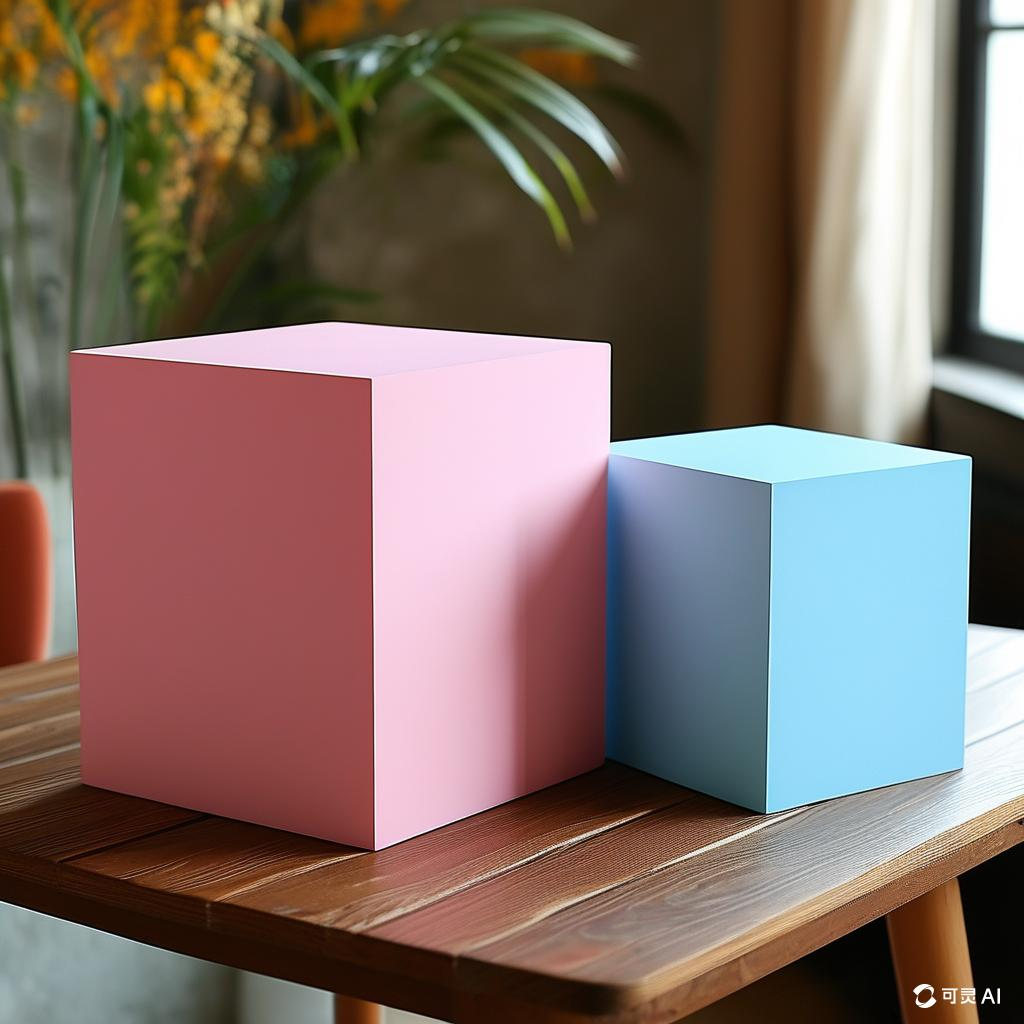cube: (68, 318, 611, 852), (605, 421, 973, 814)
